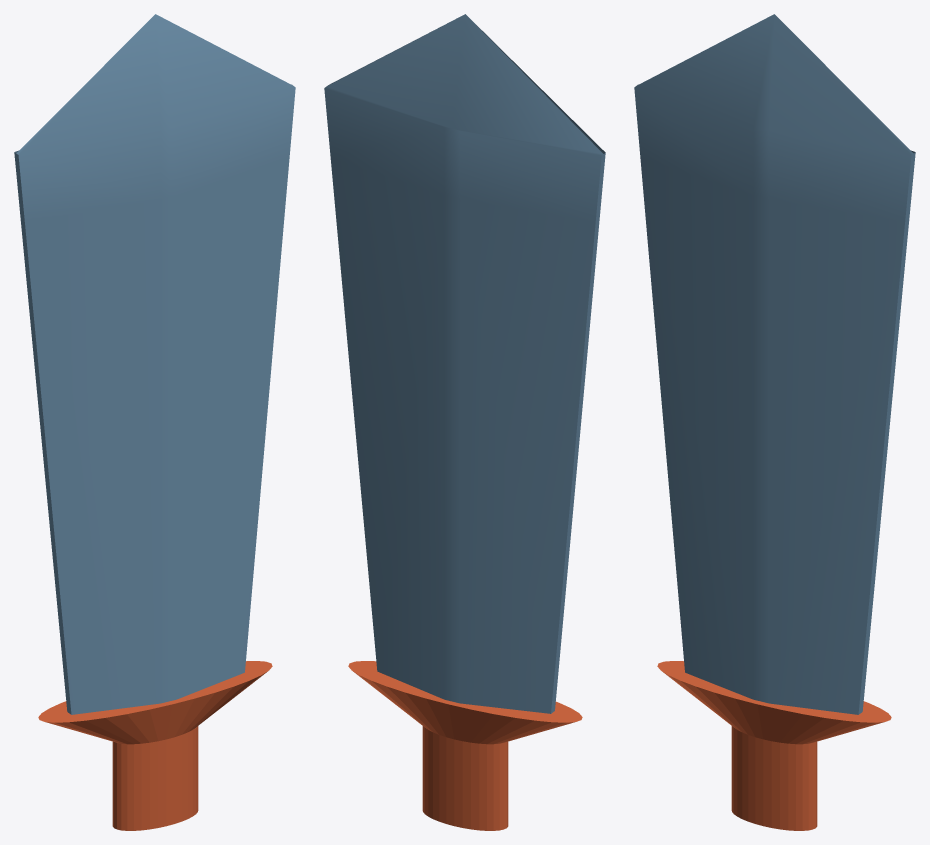
The model's file is sword.fbx.
3 views of the same model, side by side, from view 1: azimuth 30°, elevation 25°; view 2: azimuth 150°, elevation 25°; view 3: azimuth 330°, elevation 25° (orthographic).
Visible parts, largest first — view 1: sword, sword.001; view 2: sword, sword.001; view 3: sword, sword.001.
Part boxes in pixels (bbox=[...]): sword: bbox=[14, 14, 295, 722]; sword.001: bbox=[45, 671, 267, 830]; sword: bbox=[324, 14, 605, 722]; sword.001: bbox=[353, 671, 574, 830]; sword: bbox=[634, 14, 915, 722]; sword.001: bbox=[662, 671, 884, 830].
Size of the model in its own units: 308 by 852 by 65.81.
